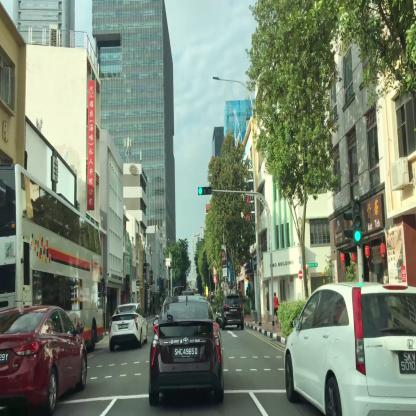green_traffic_light: (352, 201, 362, 243), (198, 186, 212, 194)
